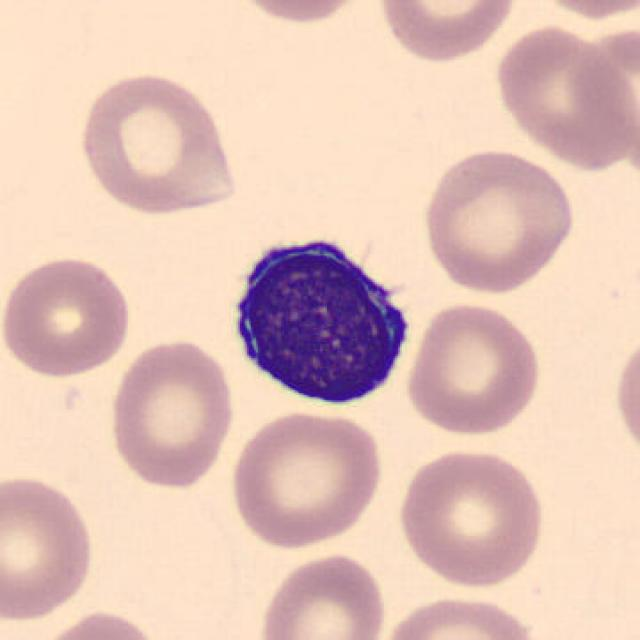Lymphocyte: (217, 224, 421, 414)
RBC: (73, 68, 242, 218), (418, 145, 578, 296), (225, 407, 388, 550), (393, 444, 549, 591), (489, 19, 636, 173), (105, 333, 238, 492), (402, 300, 544, 437), (0, 250, 135, 381), (0, 471, 98, 624), (255, 550, 390, 640), (372, 0, 522, 65), (375, 592, 546, 640), (218, 0, 378, 28), (610, 324, 640, 469), (31, 608, 166, 640), (522, 0, 640, 21)
